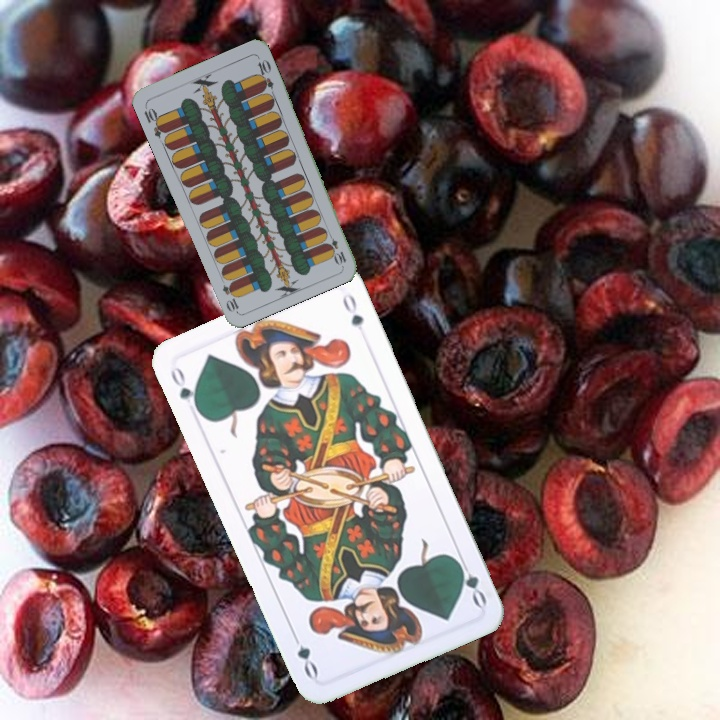E10: (140, 102, 169, 140), (323, 228, 349, 267)
GO: (451, 552, 490, 610), (166, 362, 203, 419)
